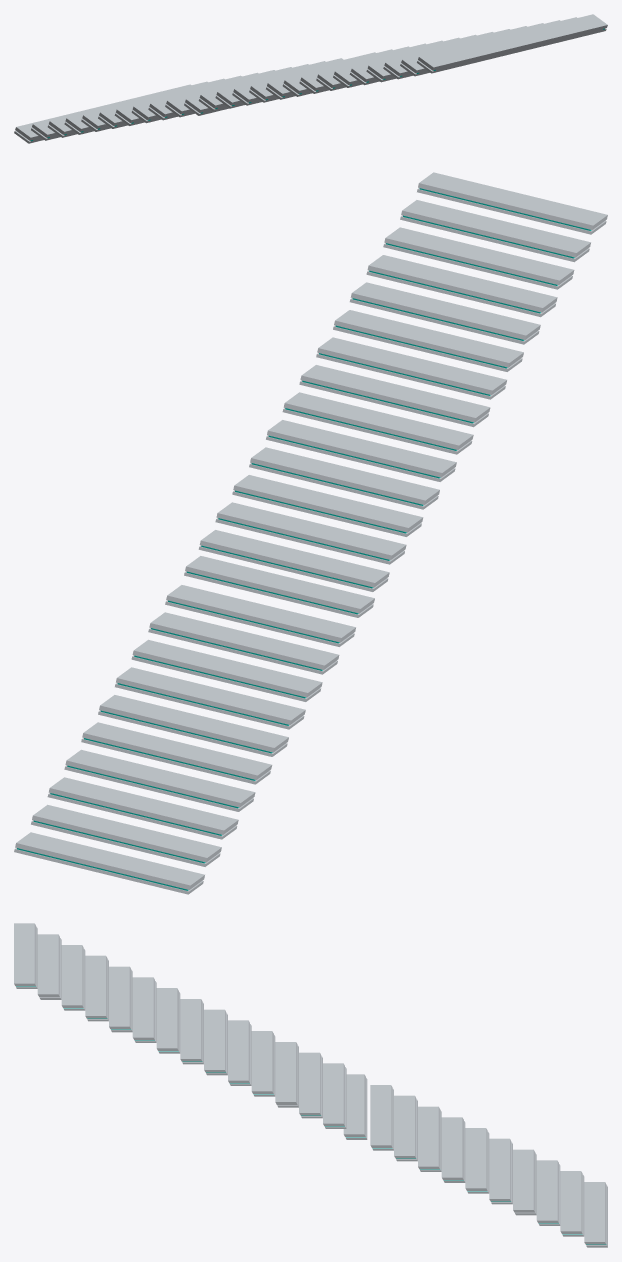
File: stairs-01.fbx
The picture shows the model from 3 angles, top to bottom: view 1: azimuth 30°, elevation 25°; view 2: azimuth 150°, elevation 25°; view 3: azimuth 270°, elevation 25°; orthographic projection. The views are drawn at different scales.
Parts seen in each view (by area): view 1: stairs-01; view 2: stairs-01; view 3: stairs-01.
Part boxes in pixels (x1,y1,x2,y2): stairs-01: (14, 14, 607, 143); stairs-01: (14, 172, 607, 894); stairs-01: (14, 923, 607, 1247).
Size of the model in its own units: 48 by 98 by 200.
